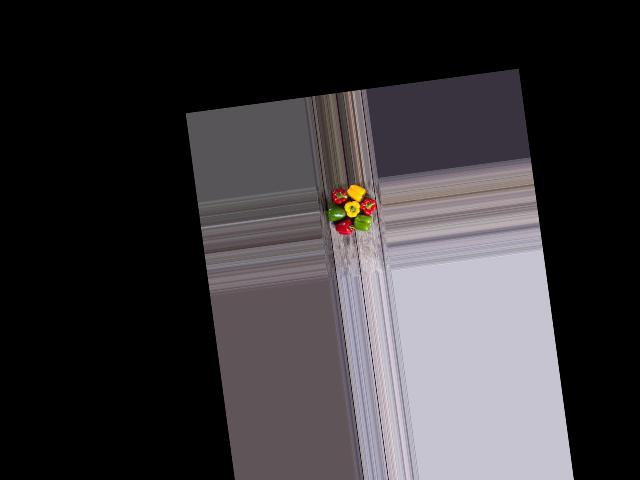bell_pepper: (330, 183, 351, 205)
